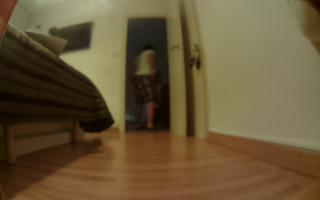person: (128, 40, 165, 131)
